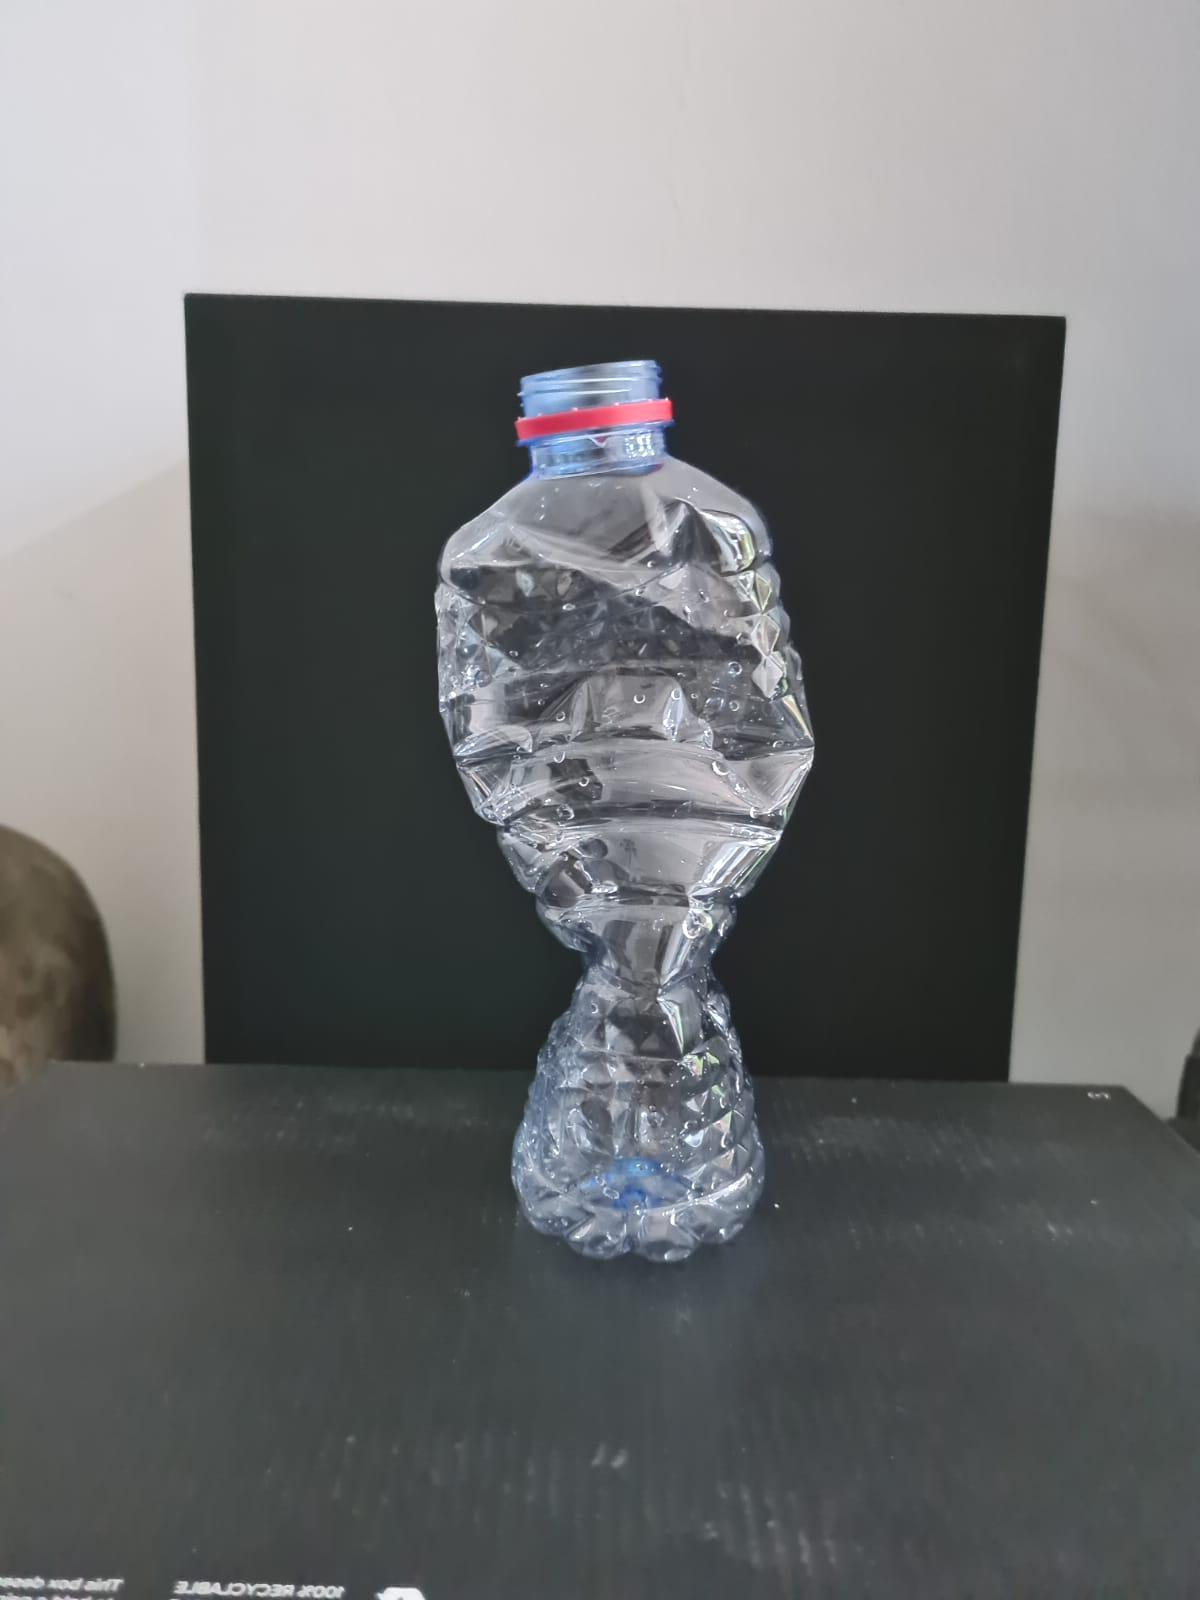bottle: (420, 327, 825, 1294)
